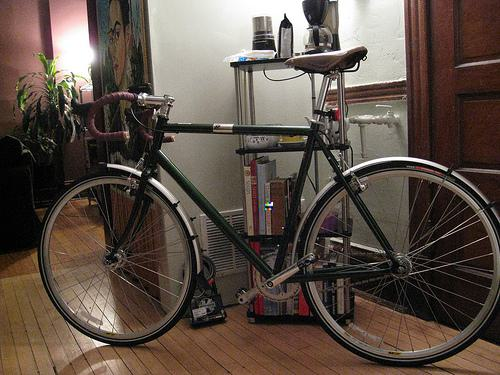car: (38, 45, 500, 367)
pottedplant: (13, 51, 89, 193)
